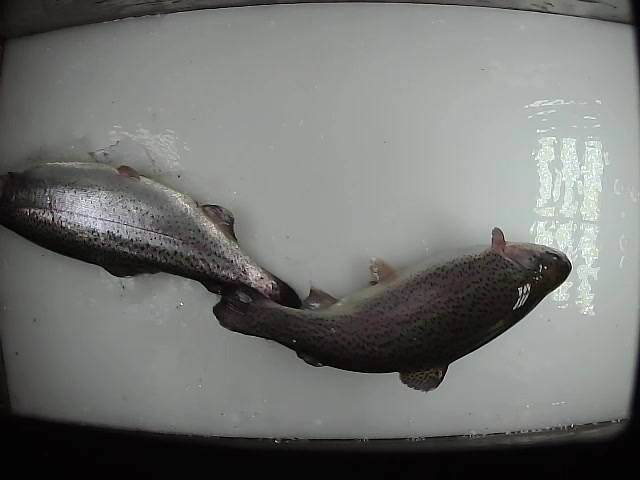fish: (209, 221, 573, 391), (1, 159, 305, 307)
